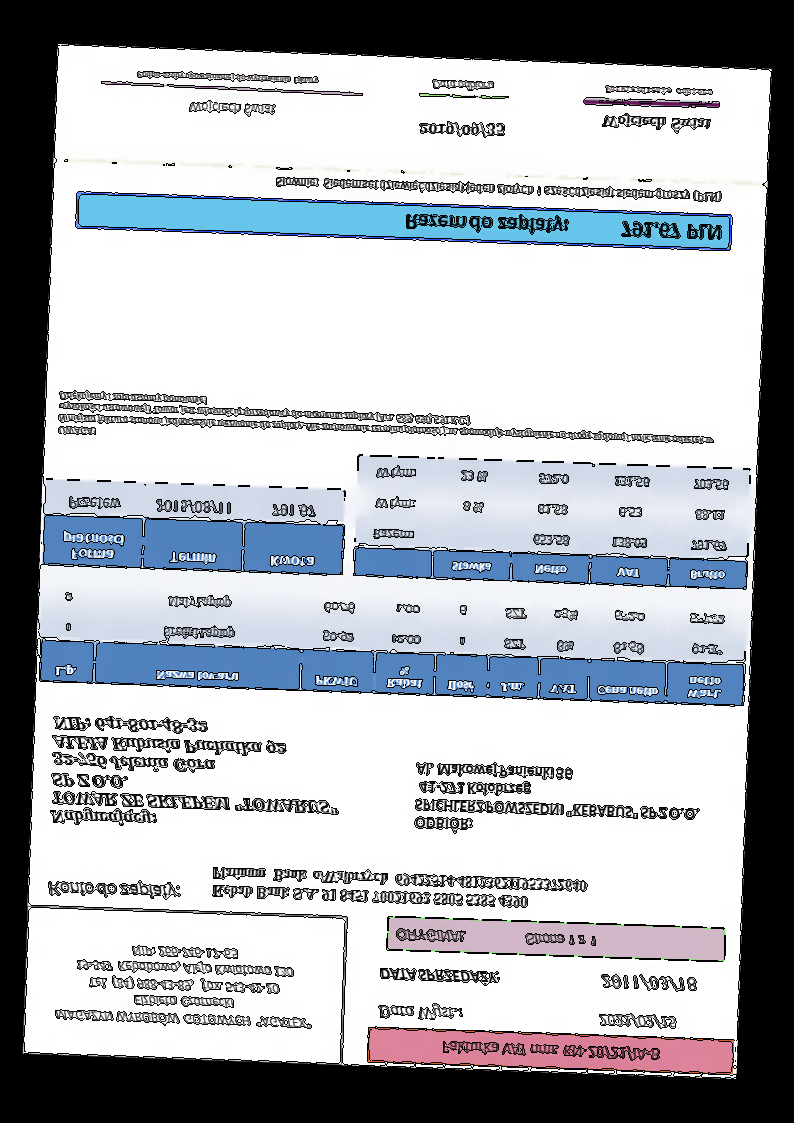Table: (37, 577, 748, 710), (351, 452, 752, 590), (41, 476, 346, 577)
TextBox: (56, 389, 717, 460), (47, 710, 342, 835), (411, 760, 707, 843), (50, 940, 319, 1031), (208, 862, 589, 915), (270, 173, 724, 208), (399, 209, 724, 246), (436, 1038, 664, 1065), (394, 925, 603, 952), (42, 878, 183, 904), (134, 68, 322, 87), (376, 962, 500, 989), (595, 111, 715, 136), (598, 972, 700, 997), (598, 1008, 678, 1036), (414, 119, 509, 142), (375, 1002, 468, 1025), (184, 98, 277, 121), (601, 83, 714, 100), (430, 77, 496, 96)
